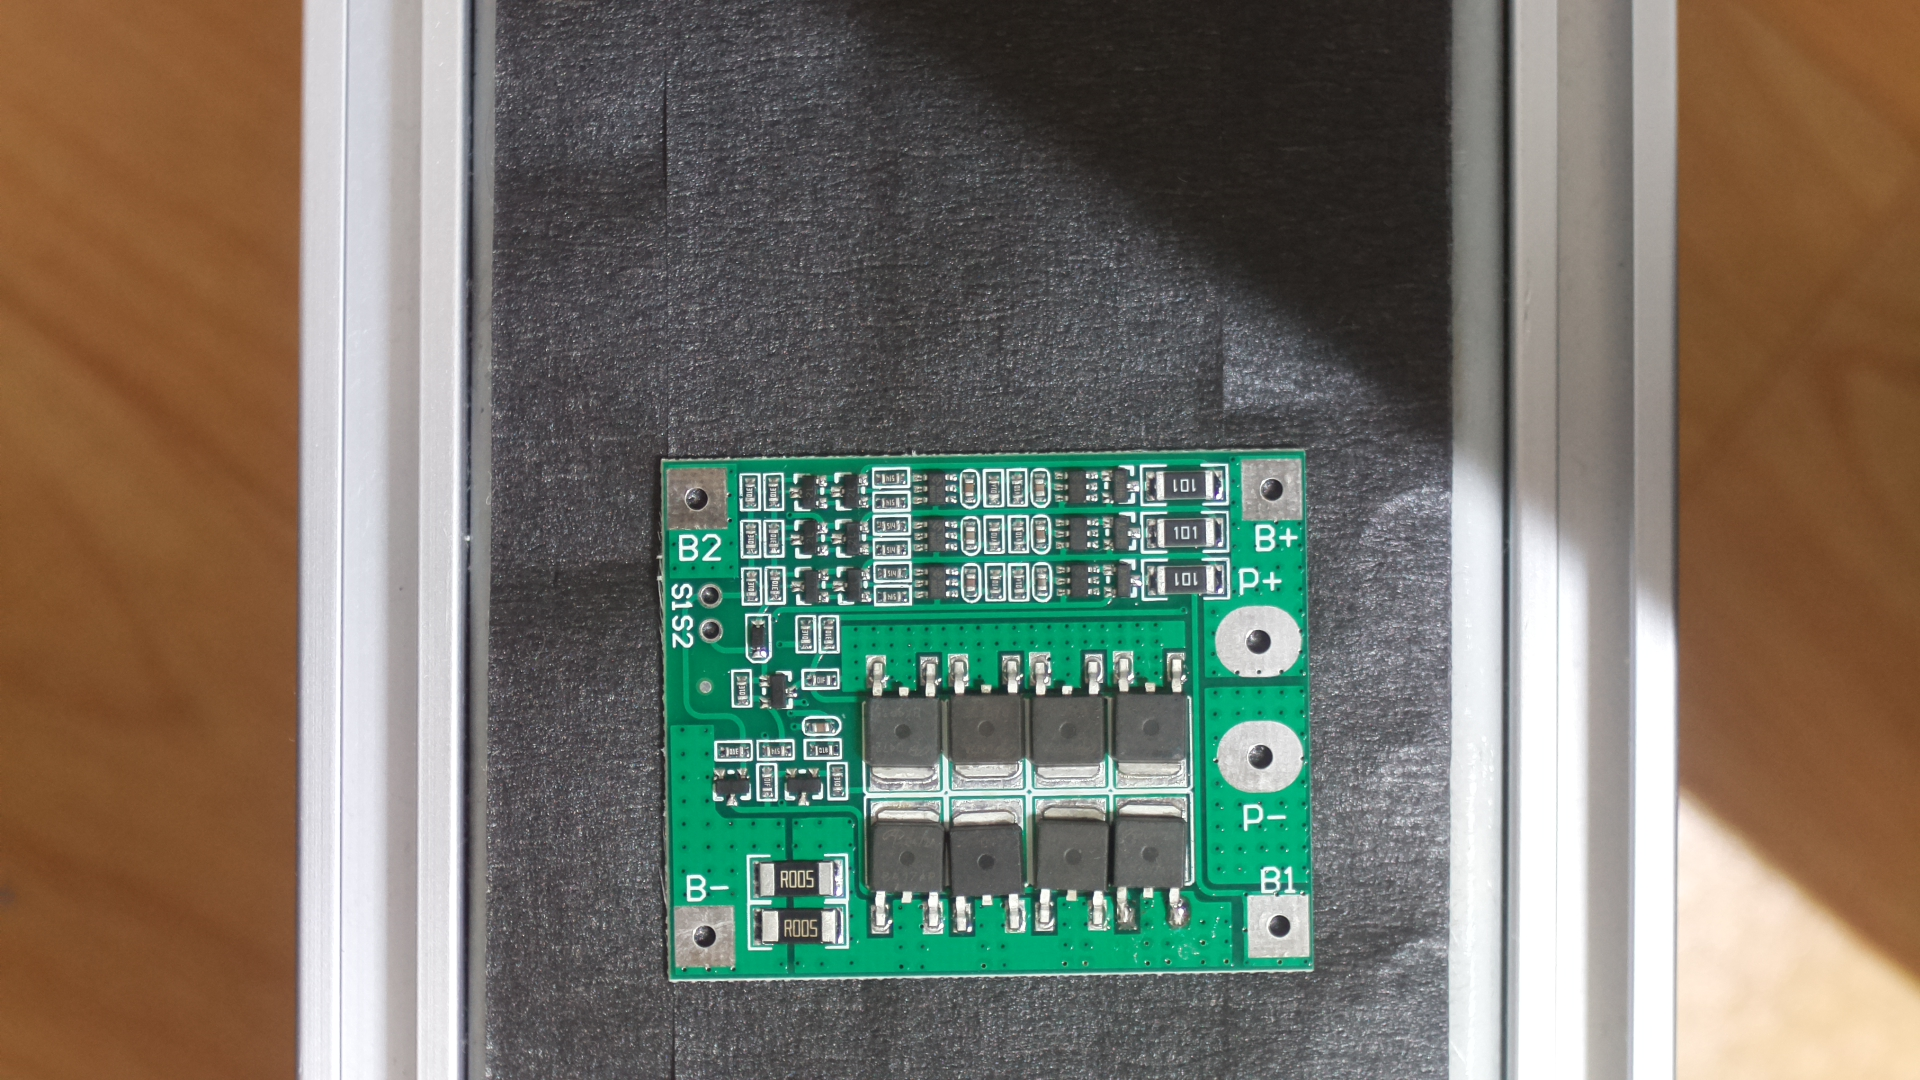C_Normal: (646, 439, 1332, 1006)
